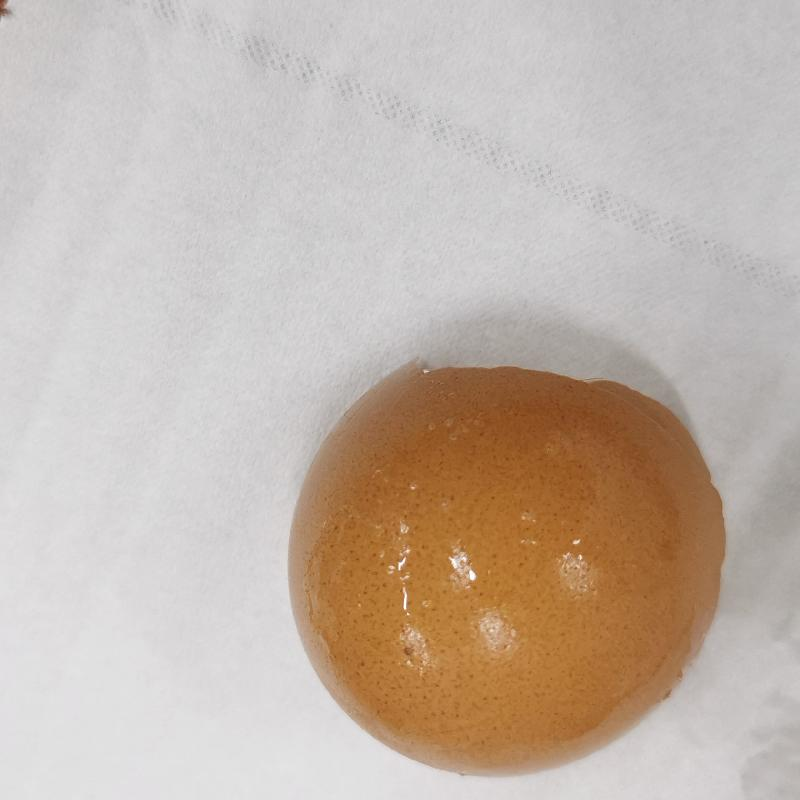eggshell: (274, 358, 732, 779)
